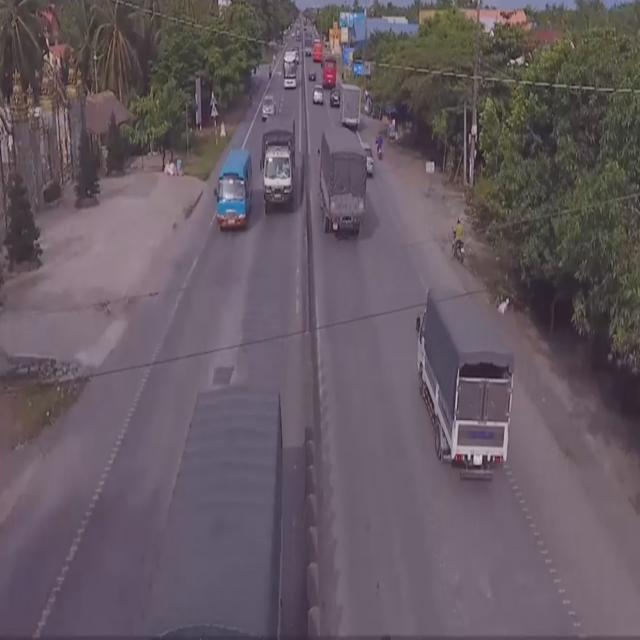bus: (214, 152, 252, 232), (282, 47, 298, 90), (322, 54, 339, 89)
car: (361, 142, 375, 178), (310, 86, 326, 111), (260, 91, 274, 117), (329, 89, 343, 114)
motorbike: (449, 216, 466, 270)
truck: (142, 384, 282, 640), (417, 288, 519, 483), (316, 130, 368, 245), (262, 115, 296, 214), (339, 81, 362, 130)
